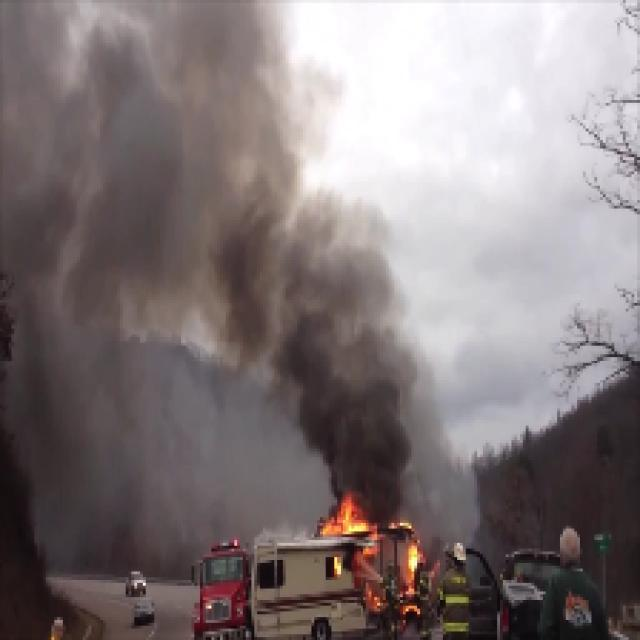Fire: (314, 483, 438, 619)
Smoke: (11, 5, 432, 474)
